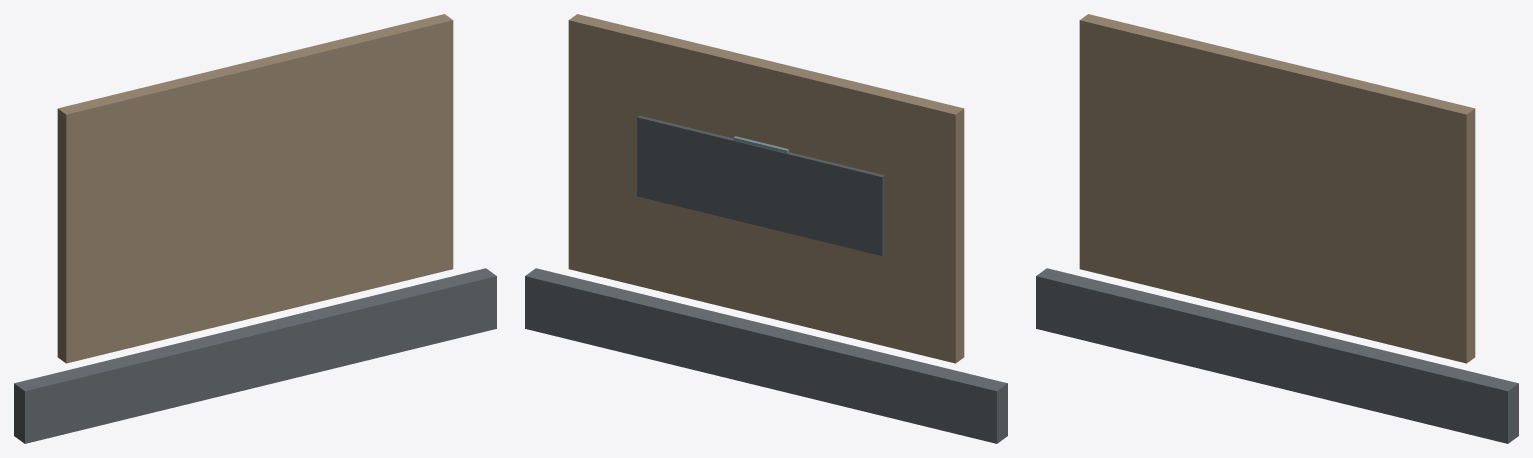
The model's file is iz3_military_fence_02.glb.
3 views of the same model, side by side, from view 1: azimuth 30°, elevation 25°; view 2: azimuth 150°, elevation 25°; view 3: azimuth 330°, elevation 25° (orthographic).
Visible parts, largest first — view 1: cabinet, base; view 2: cabinet, base, panel; view 3: cabinet, base.
Boxes of the visible parts, left/top/right/bottom form: cabinet: left=57, top=14, right=453, bottom=363; base: left=14, top=268, right=496, bottom=443; cabinet: left=568, top=14, right=964, bottom=363; base: left=525, top=268, right=1007, bottom=443; panel: left=637, top=115, right=884, bottom=256; cabinet: left=1079, top=14, right=1475, bottom=363; base: left=1036, top=268, right=1518, bottom=443.
Size of the model in its own units: 3 by 1.93 by 0.1342.
